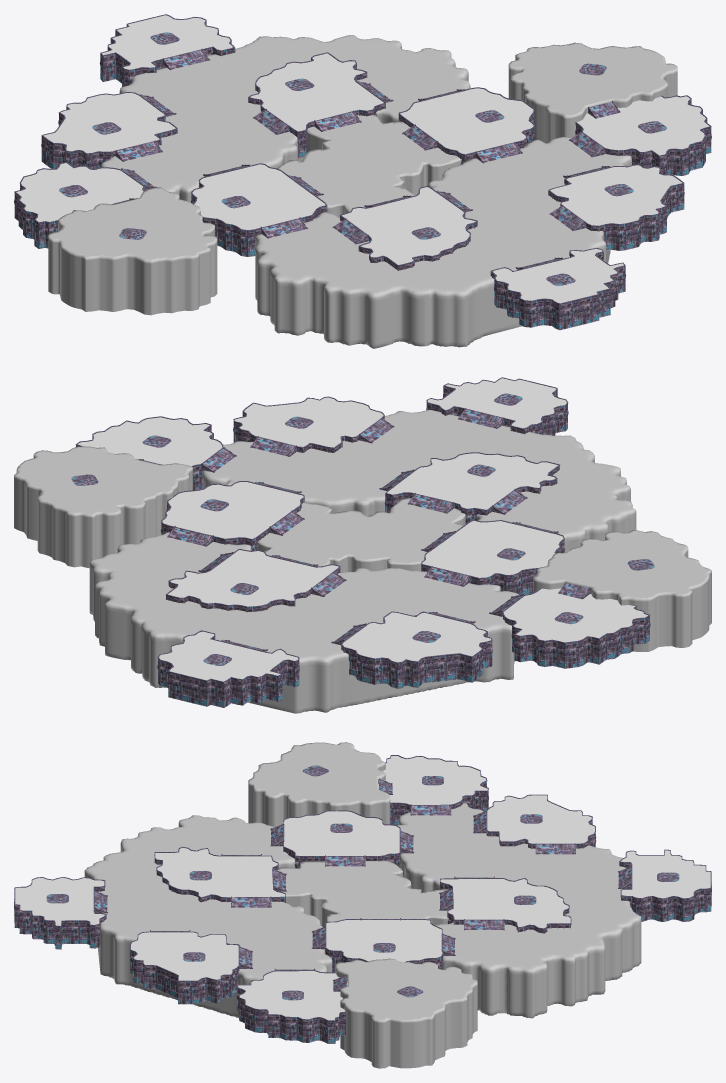
Rendered from StarCraftLevel.fbx.
3 views of the same model, one above another, from view 1: azimuth 30°, elevation 25°; view 2: azimuth 150°, elevation 25°; view 3: azimuth 270°, elevation 25° (orthographic). The views are drawn at different scales.
Parts seen in each view (by area): view 1: Platforms_Metal, Platform_Sand_Outer, Platform_Stone, Platform_Sand_Inner, Ramps, Building_Spot; view 2: Platforms_Metal, Platform_Sand_Outer, Platform_Stone, Platform_Sand_Inner, Ramps, Building_Spot; view 3: Platforms_Metal, Platform_Sand_Outer, Platform_Stone, Platform_Sand_Inner, Ramps, Building_Spot.
Boxes of the visible parts, left/top/right/bottom form: Platforms_Metal: left=14, top=14, right=711, bottom=330; Platform_Sand_Outer: left=101, top=35, right=631, bottom=348; Platform_Stone: left=48, top=42, right=677, bottom=315; Platform_Sand_Inner: left=277, top=115, right=461, bottom=217; Ramps: left=112, top=48, right=620, bottom=269; Building_Spot: left=59, top=32, right=666, bottom=285; Platforms_Metal: left=75, top=377, right=650, bottom=707; Platform_Sand_Outer: left=89, top=410, right=636, bottom=713; Platform_Stone: left=14, top=446, right=711, bottom=651; Platform_Sand_Inner: left=257, top=498, right=465, bottom=572; Ramps: left=136, top=408, right=590, bottom=651; Building_Spot: left=71, top=393, right=654, bottom=665; Platforms_Metal: left=14, top=755, right=711, bottom=1043; Platform_Sand_Outer: left=84, top=803, right=641, bottom=1022; Platform_Stone: left=248, top=742, right=477, bottom=1068; Platform_Sand_Inner: left=277, top=860, right=448, bottom=927; Ramps: left=94, top=778, right=631, bottom=991; Building_Spot: left=46, top=765, right=679, bottom=1000.
Size of the model in its own units: 18658 by 1871 by 19756.
